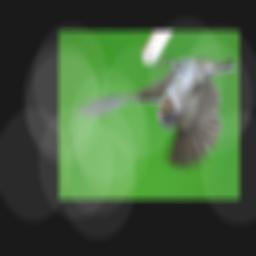Swallow: (79, 55, 236, 172)
